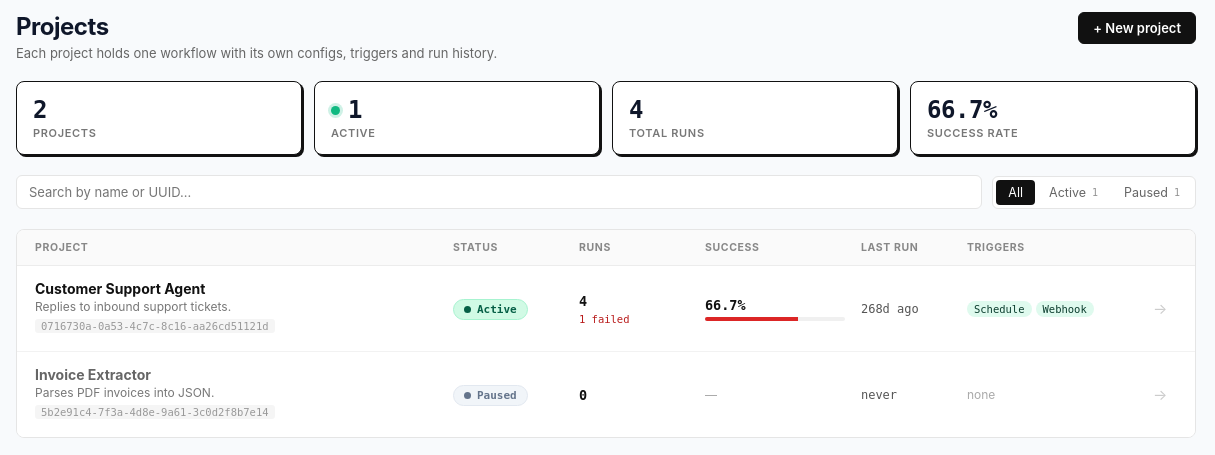
it: pausing a project › writes the flag into metadata without dropping the rest of it
The image size is (1215, 455).
Click the button "Paused".
click(490, 396)  # box [453, 385, 528, 406]
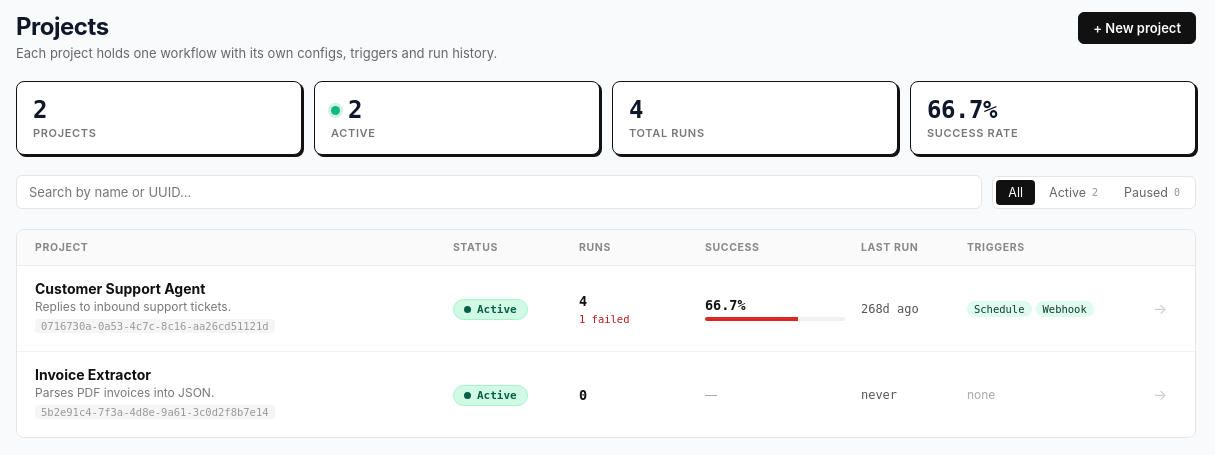
Expected: the 2nd button "Active" is shown, [453, 385, 528, 406]
